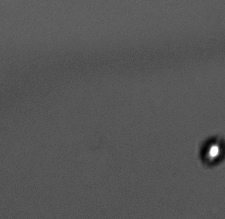Living Cell: (199, 136, 224, 169)
